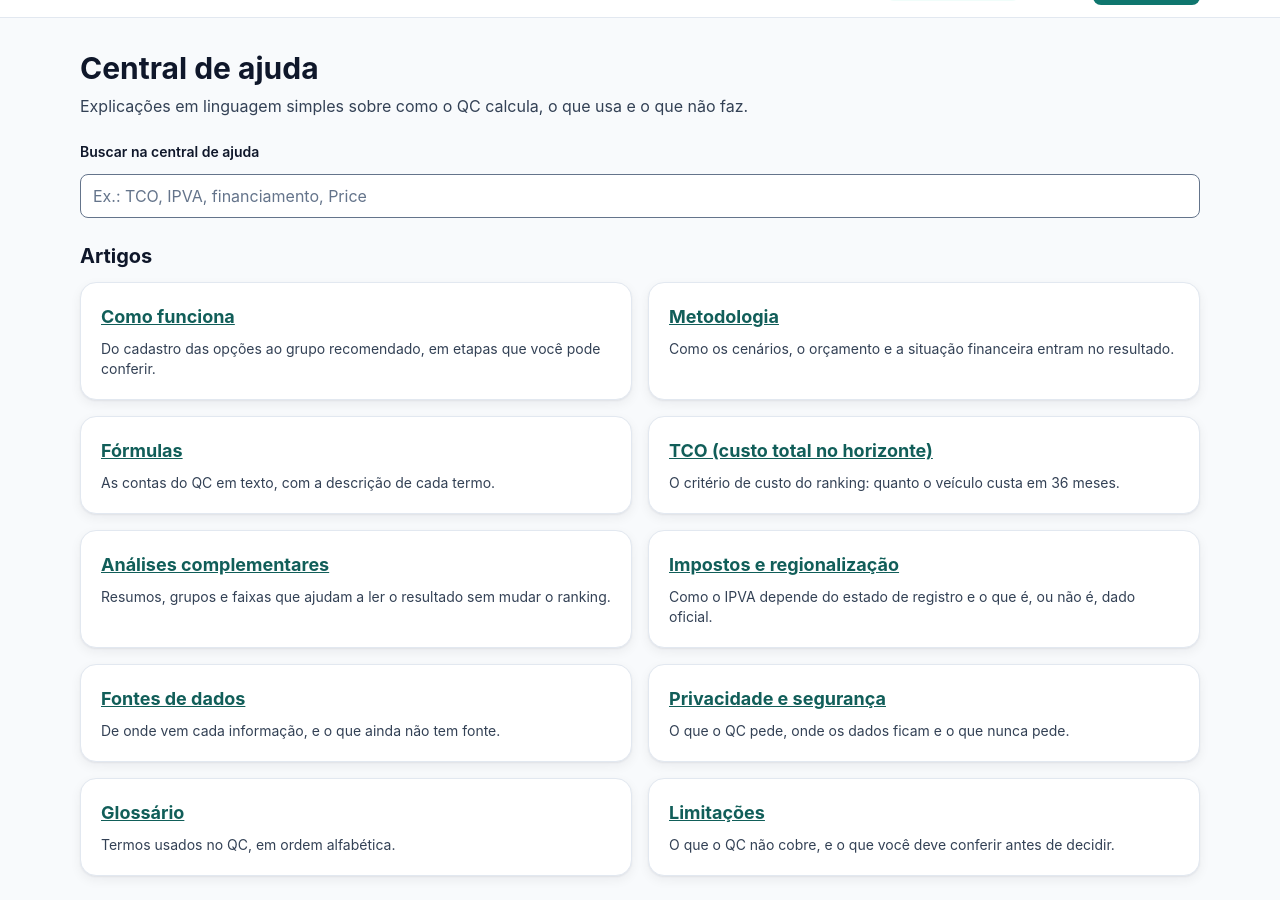
Test case: central de ajuda › a busca mostra resultados e leva ao artigo
(page scrolled)
Type "ipva" into the search field labelled "Buscar na central de ajuda" at (640,196), box x1=80 y1=174 x2=1200 y2=218
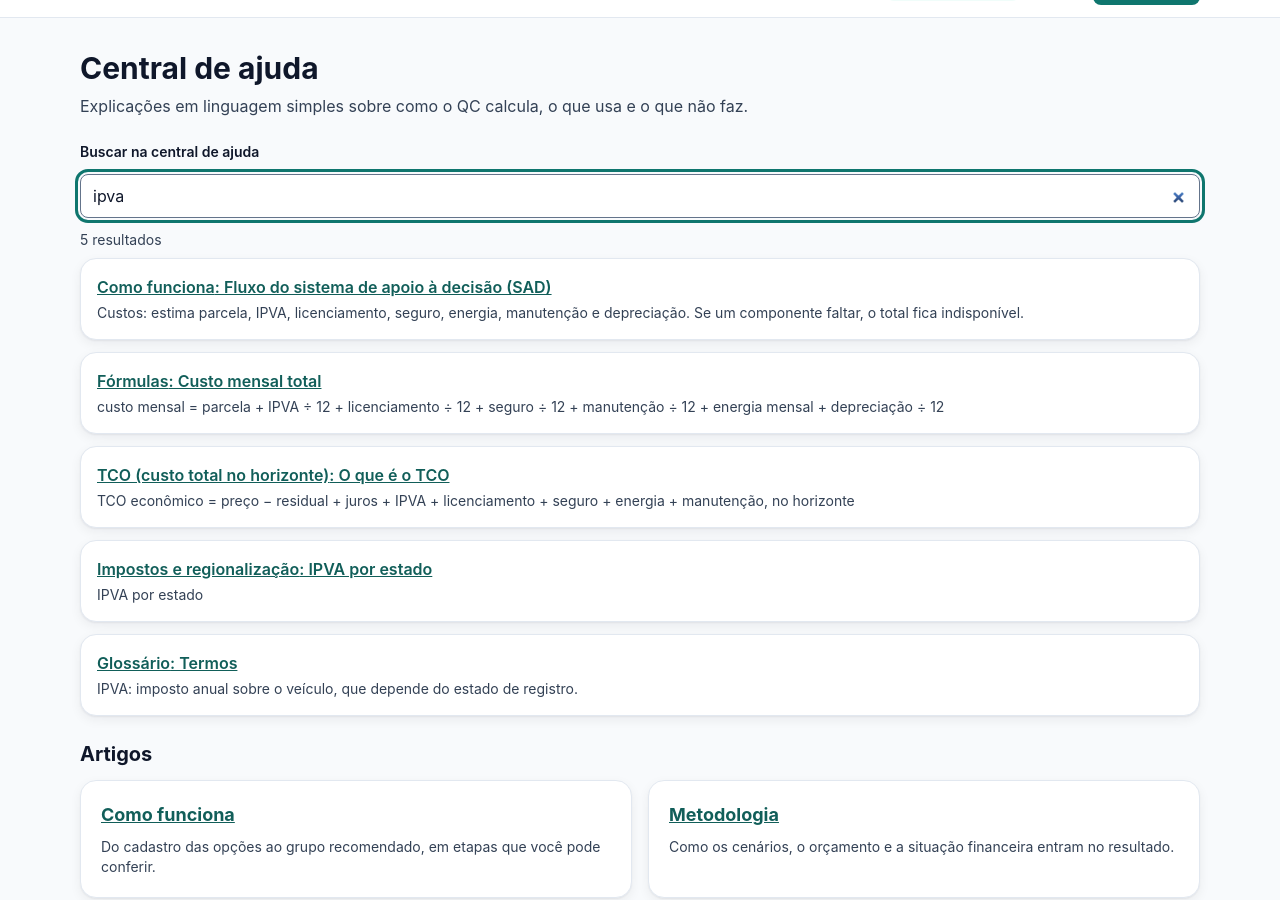
Now the link "Impostos e regionalização: IPVA por estado" is shown, box x1=97 y1=559 x2=432 y2=579
